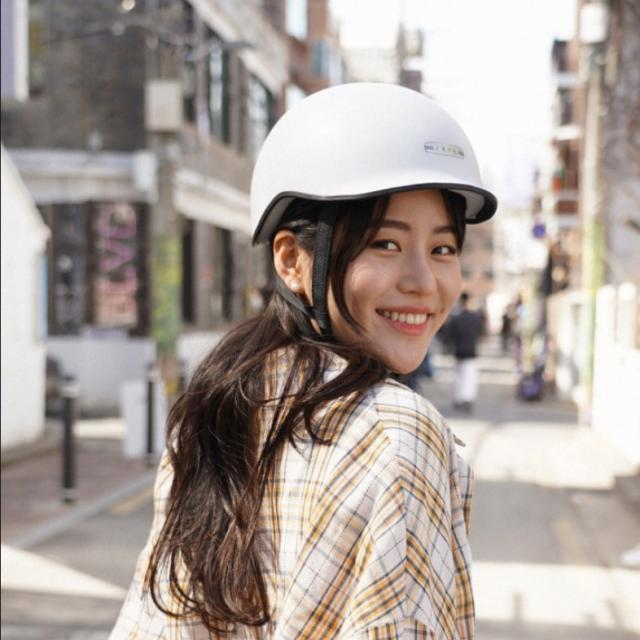helmet: (246, 78, 498, 382)
